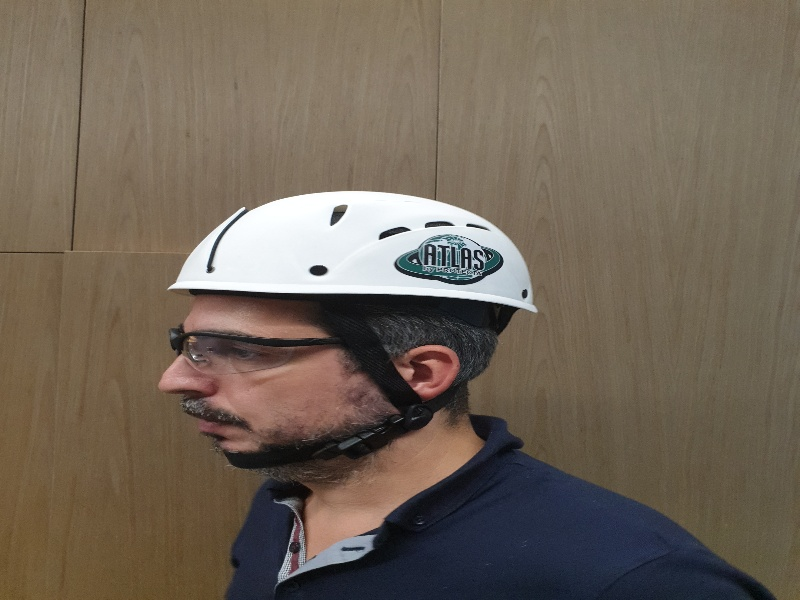Baret: (173, 187, 540, 315)
Gozluk: (162, 329, 361, 374)
